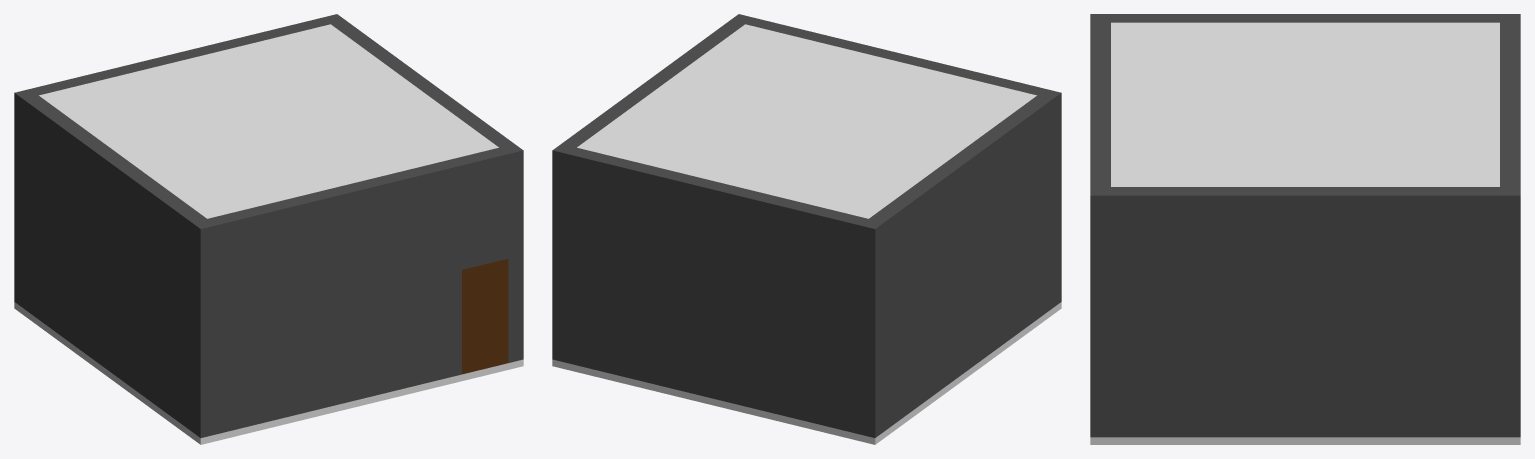
Rendered from room.fbx.
3 views of the same model, side by side, from view 1: azimuth 30°, elevation 25°; view 2: azimuth 150°, elevation 25°; view 3: azimuth 270°, elevation 25° (orthographic). The views are drawn at different scales.
Parts seen in each view (by area): view 1: Cube.001, Cube.002, Cube.003, Cube; view 2: Cube.001, Cube.002, Cube; view 3: Cube.001, Cube.002, Cube.
Boxes of the visible parts, left/top/right/bottom form: Cube.001: left=14, top=14, right=523, bottom=437; Cube.002: left=39, top=24, right=498, bottom=218; Cube.003: left=462, top=259, right=508, bottom=374; Cube: left=14, top=302, right=523, bottom=444; Cube.001: left=552, top=14, right=1061, bottom=437; Cube.002: left=577, top=24, right=1036, bottom=218; Cube: left=552, top=302, right=1061, bottom=444; Cube.001: left=1090, top=14, right=1520, bottom=437; Cube.002: left=1111, top=22, right=1499, bottom=186; Cube: left=1090, top=437, right=1520, bottom=444.
Size of the model in its own units: 2914 by 1862 by 2914.
